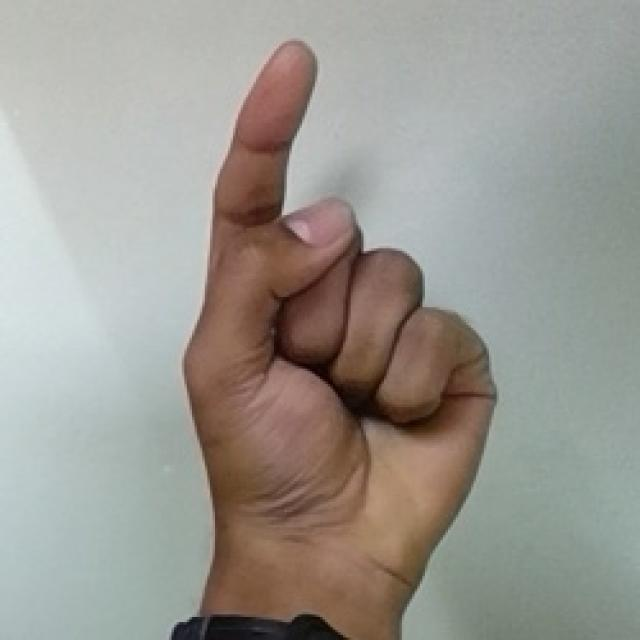Numeric-1: (175, 42, 496, 606)
